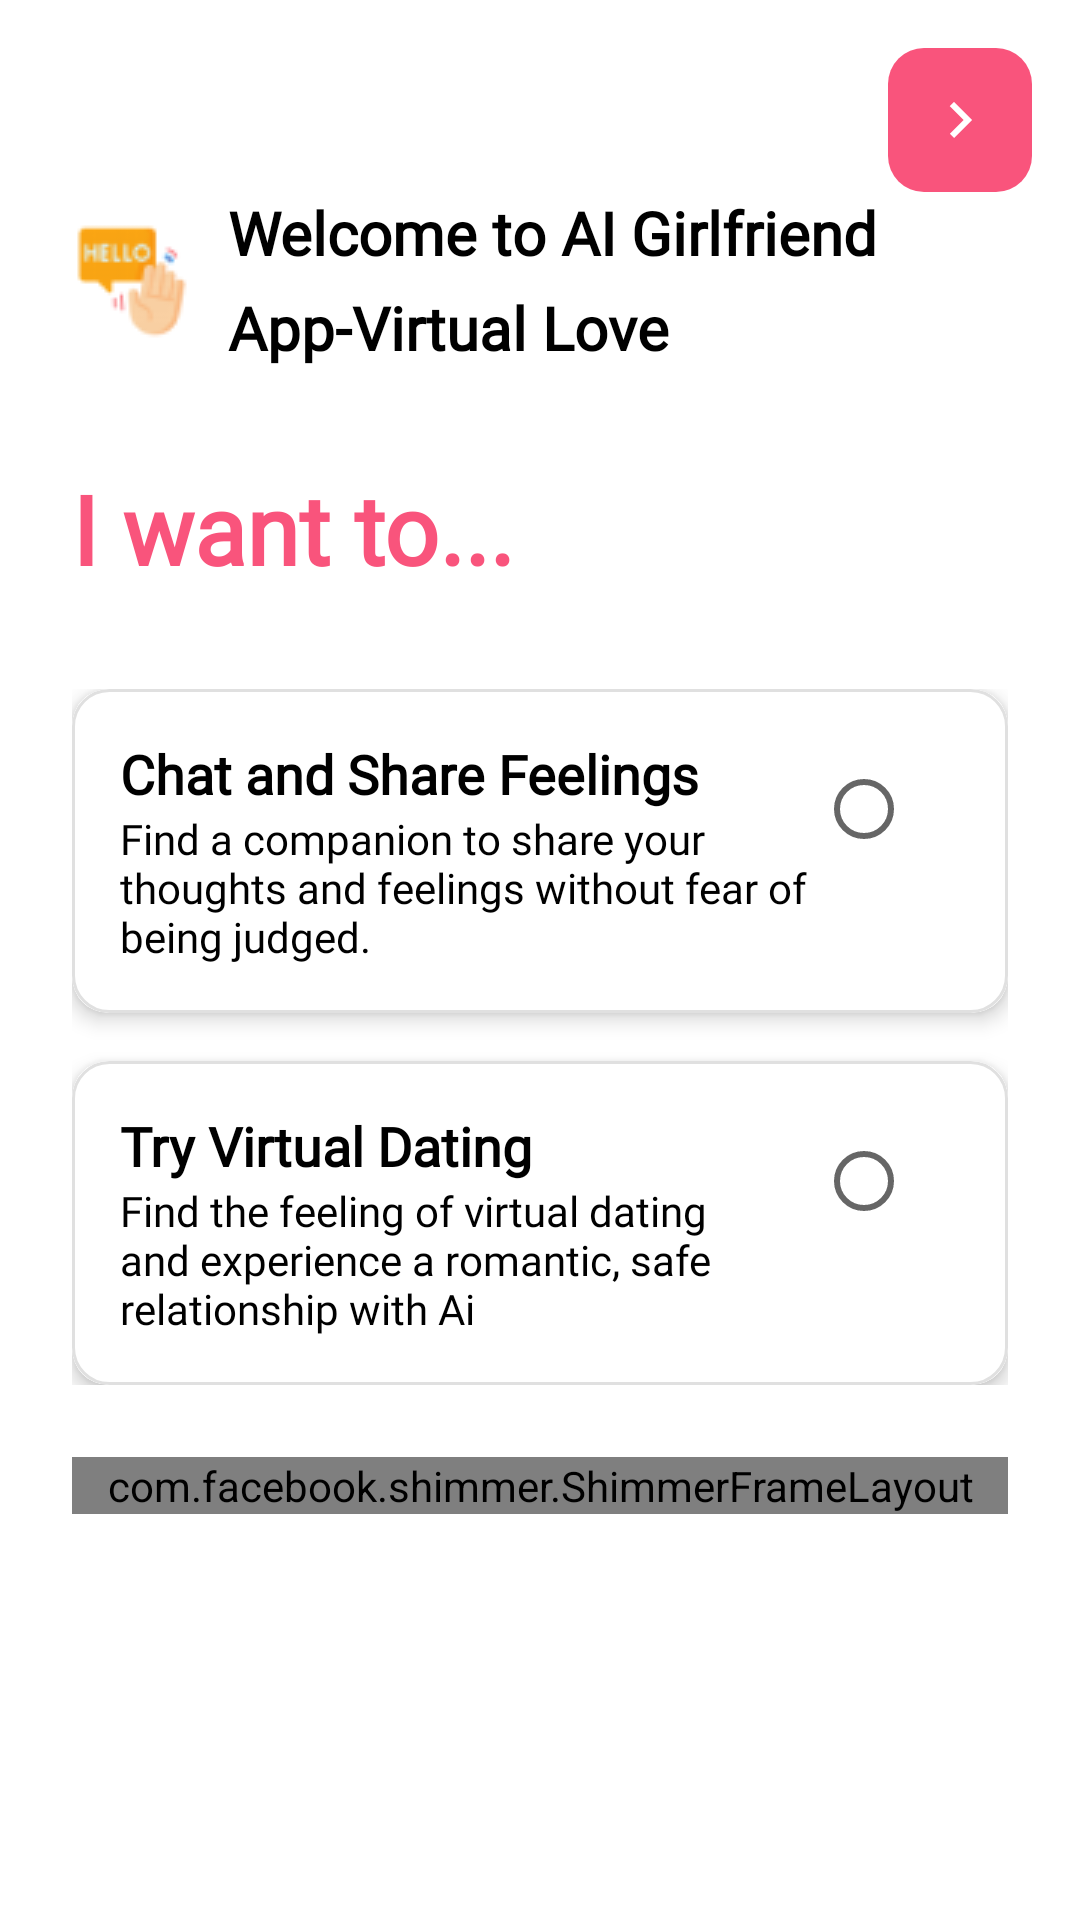

Named icons in this screenshot (1080w x 1920h) and their bounding boxes, (x1, y1, x2, y2):
arrow right: (888, 48, 1032, 192)
